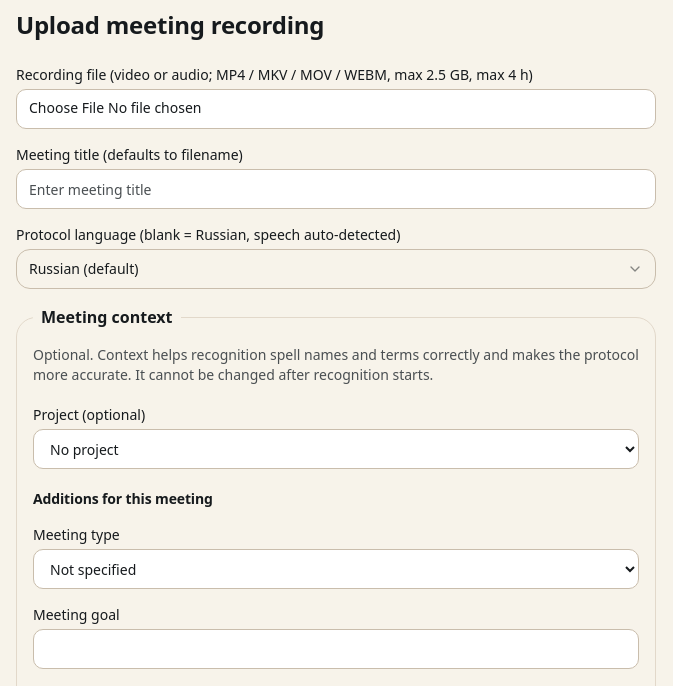
Test: UploadPage — project and context (FR-004) › fills in the project's participants and glossary read-only, marked «from project»
Step 1. Select "Alpha" in the dropdown with test id "context-project" → (336, 449), box [33,429,639,469]
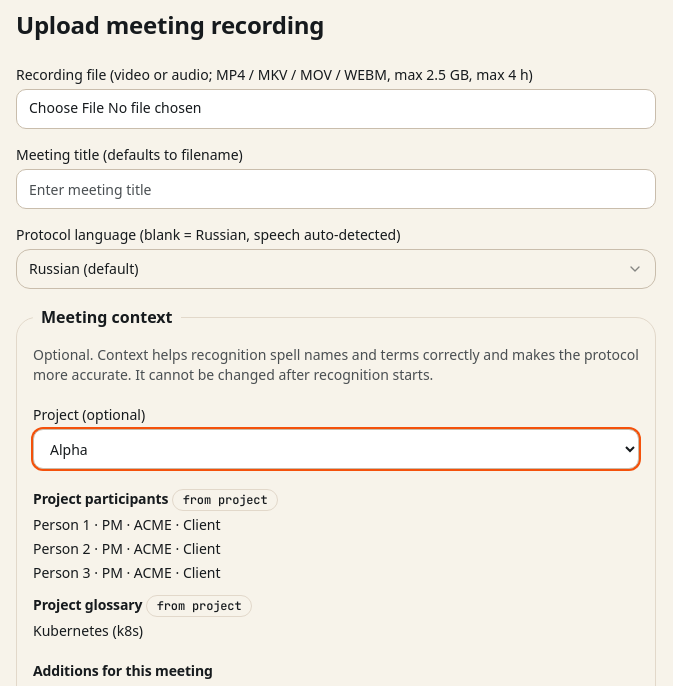
Expected: the element with test id "context-project-info" is shown, [33,489,278,640]
Expected: the text "Person 2" is shown, [33,539,91,558]
Expected: the text "Kubernetes" is shown, [33,621,109,640]
